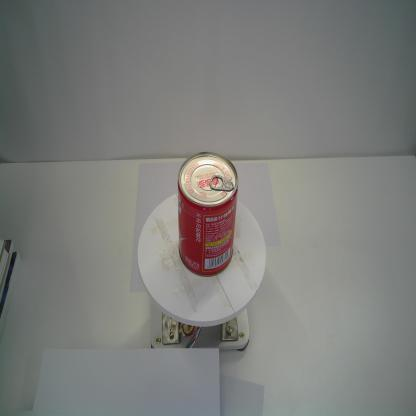Canned Food: (177, 150, 239, 278)
